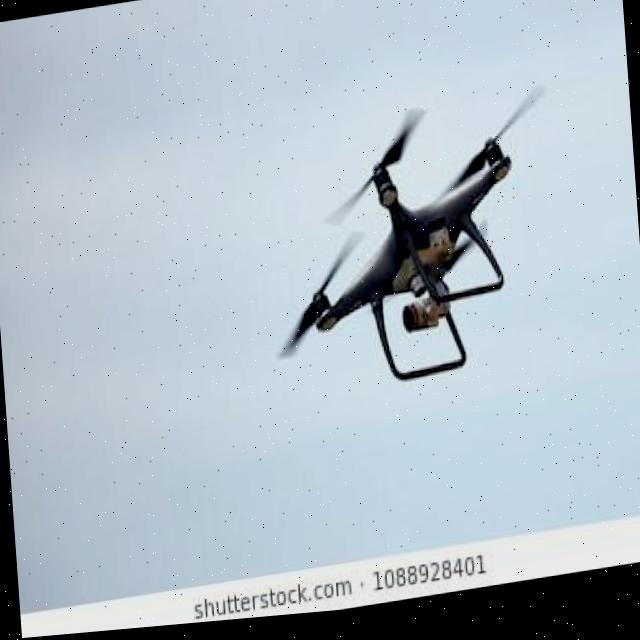drone: (226, 66, 610, 448)
